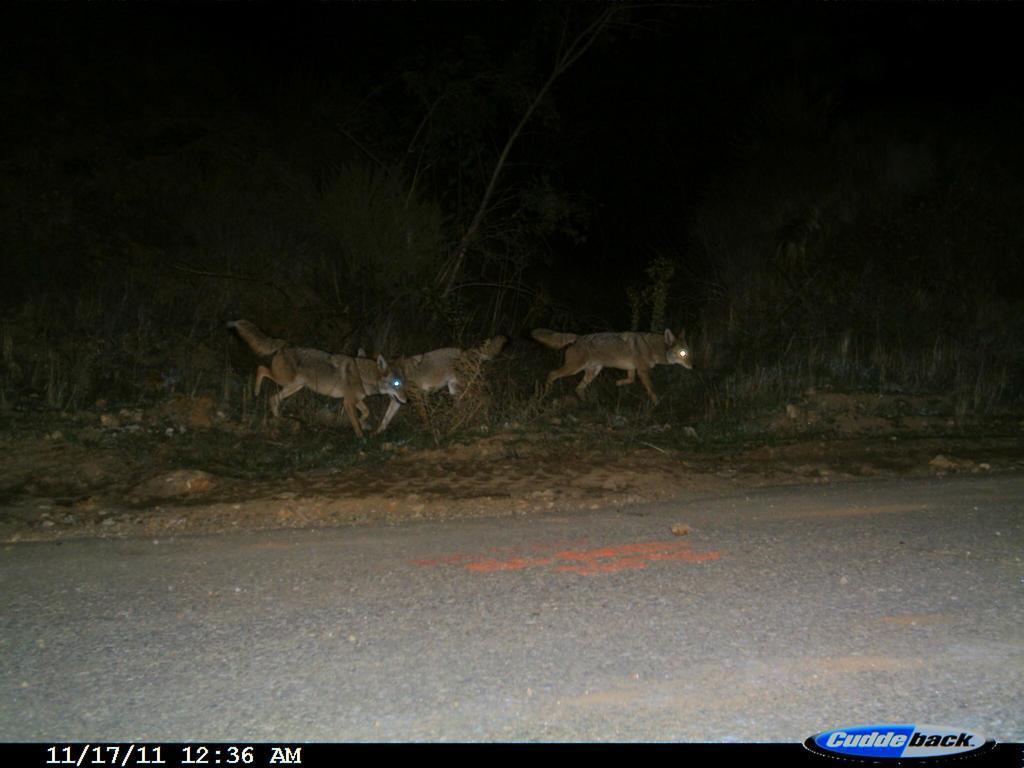coyote: (228, 313, 414, 454), (525, 314, 708, 417), (364, 326, 511, 445)
